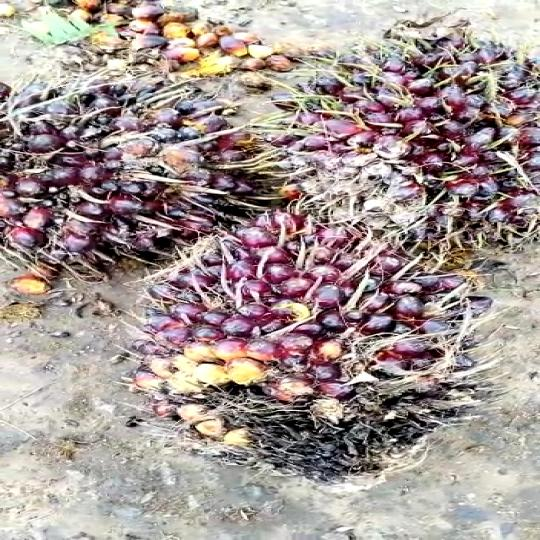kurang masak: (142, 203, 452, 485), (249, 12, 540, 261), (0, 84, 262, 297)
